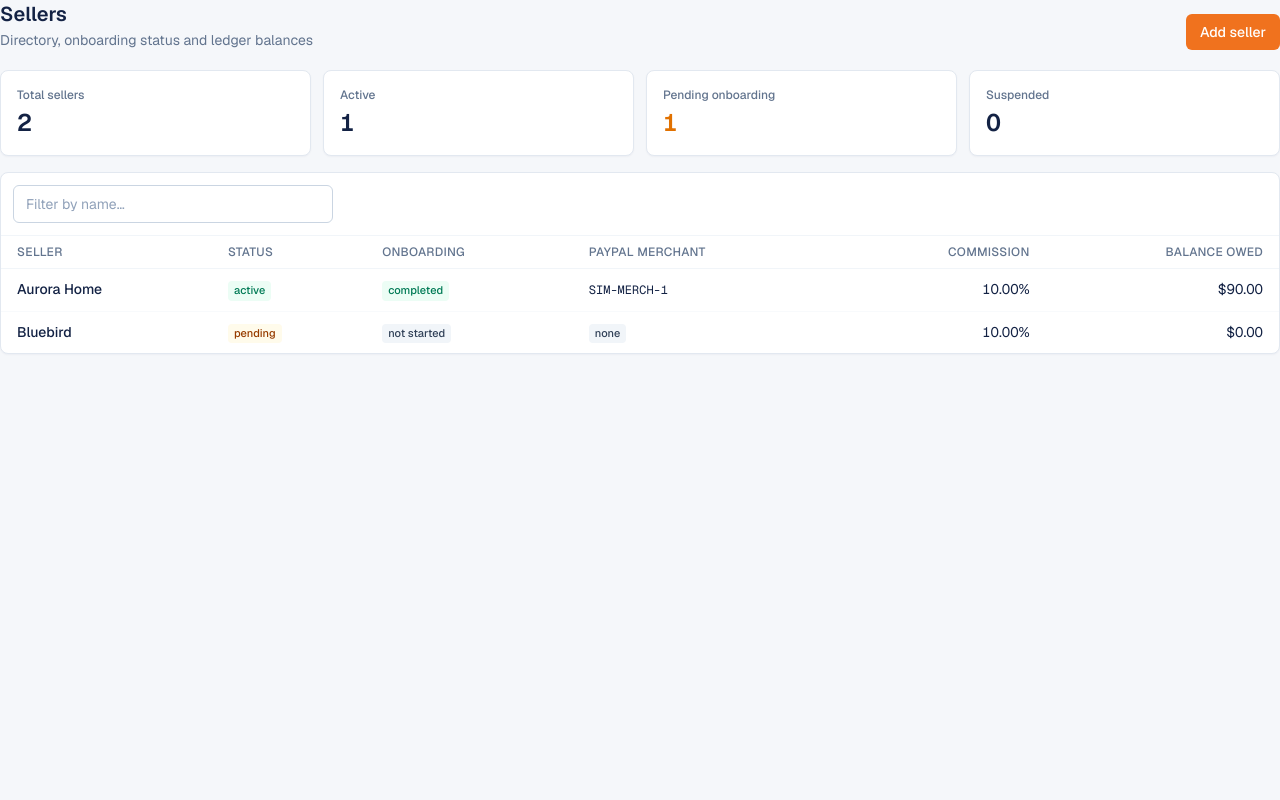
Test: seller management › lists sellers, filters, and creates a seller through a validated form
This screenshot has width=1280, height=800.
Later steps or results of the test are not shown.
Check: the text "Aurora Home" is shown, box [17,280,102,298]
In the field named "Filter sellers": (173, 204) [13,185,333,223], type "blue"
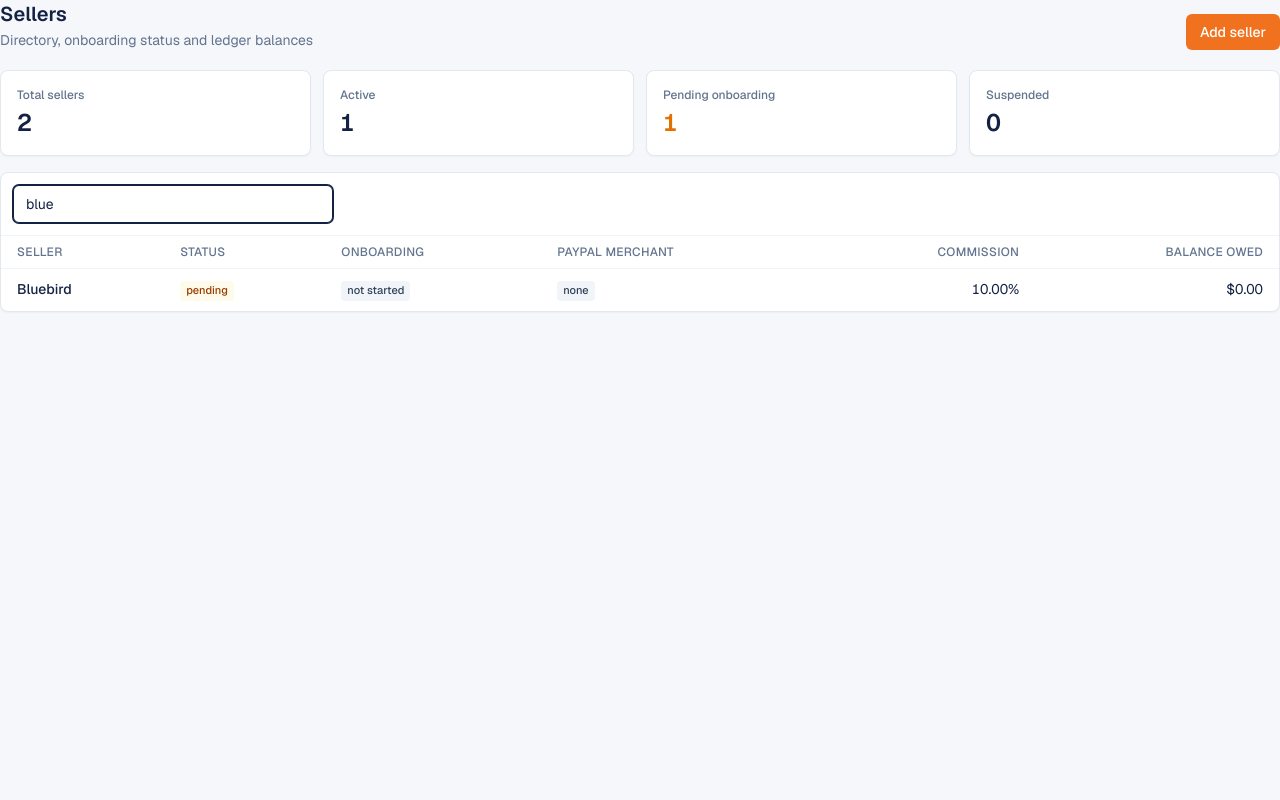
Check: the text "Aurora Home" is gone
Click the button "Add seller": click(1233, 32) [1186,14,1279,50]
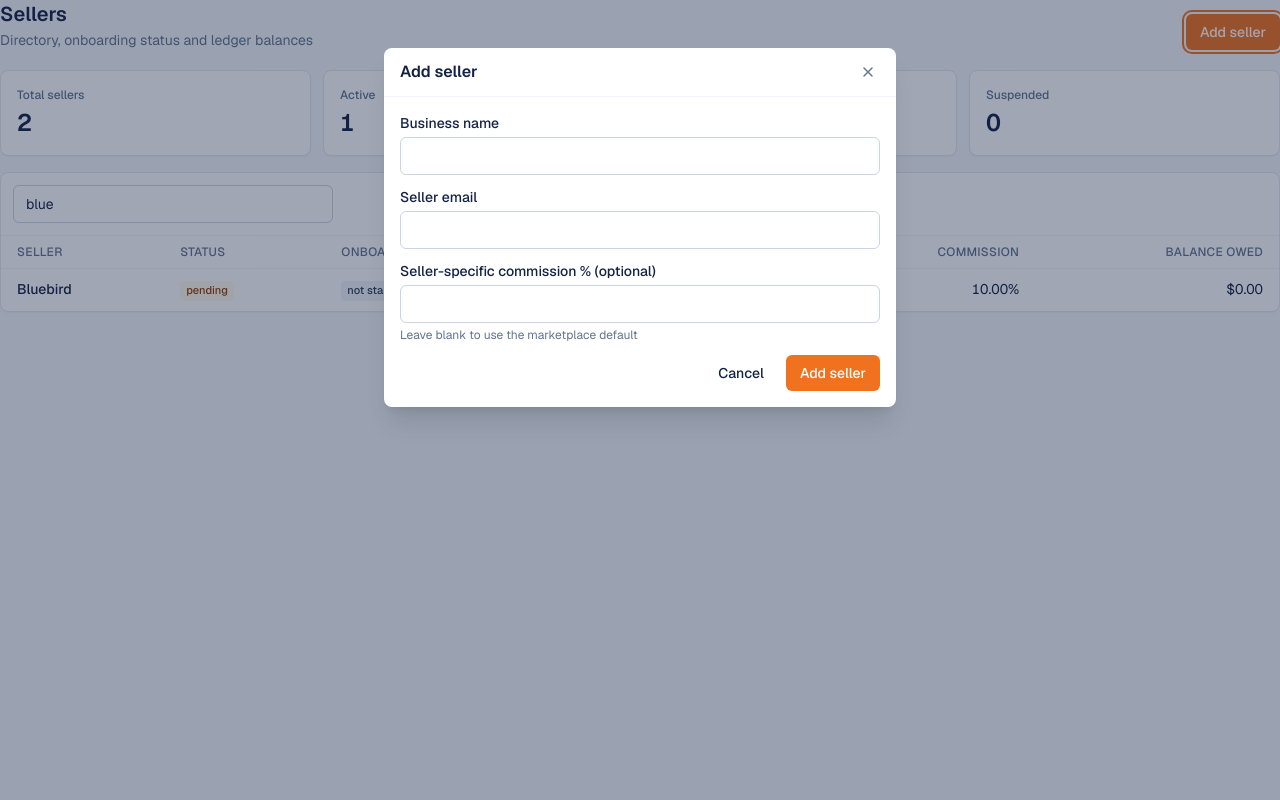
Click the button "Add seller": click(833, 373) [786,355,880,391]
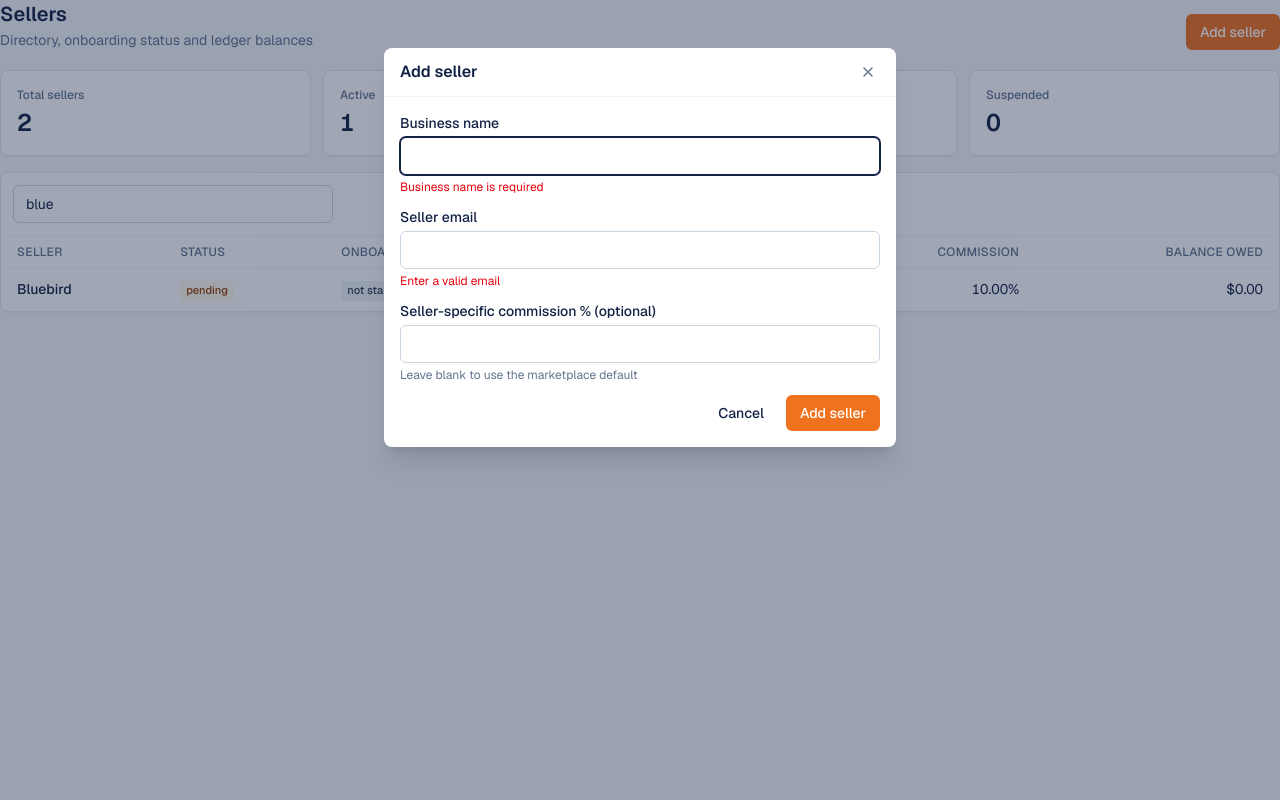
Check: the text "Business name is required" is shown, box [400,179,544,195]
